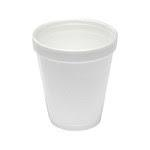Plastic cup: (26, 17, 122, 134)
